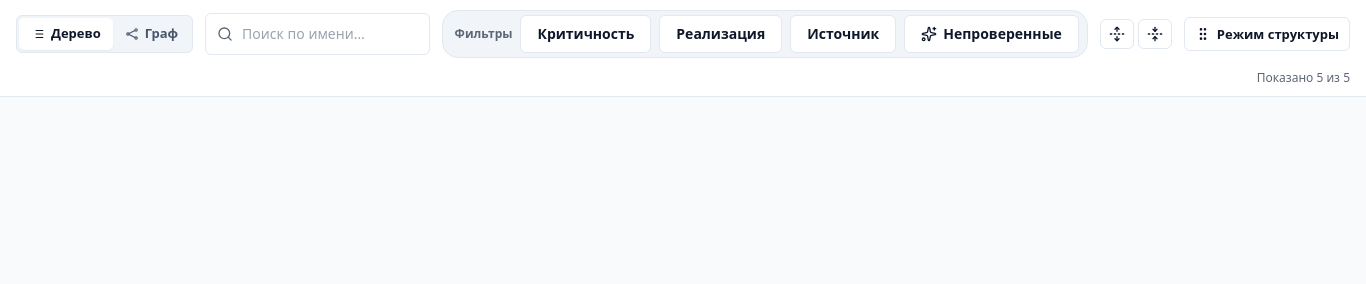
Scenario: TreeToolbar (T-1101/1103/1105) › FR-19 · «Источник» dropdown › closes on Escape without applying the draft
The image size is (1366, 284).
Click the button with test id "source-filter": (843, 34) [790, 15, 896, 53]
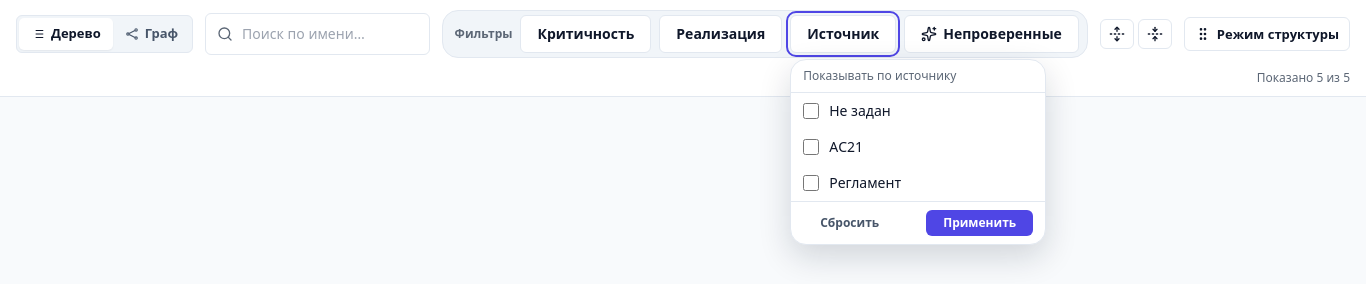
Click the label with test id "source-opt-АС21": (833, 146) [803, 137, 863, 156]
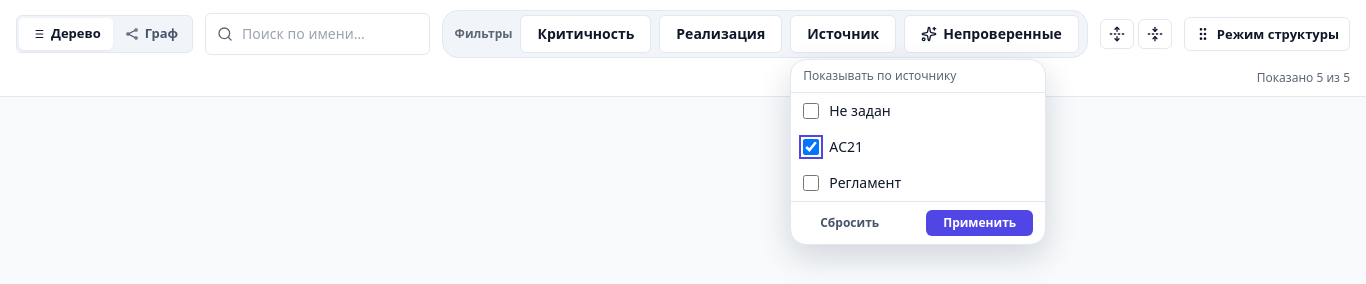
Press Escape
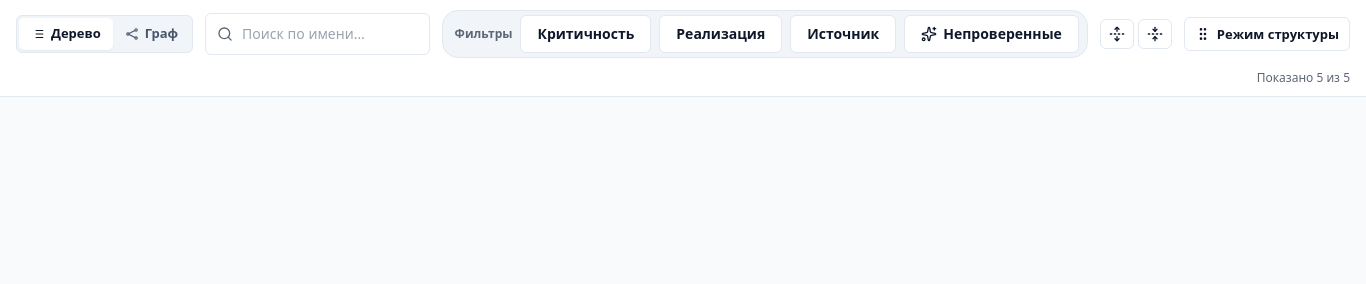
Result: the element with test id "source-dropdown" is gone
